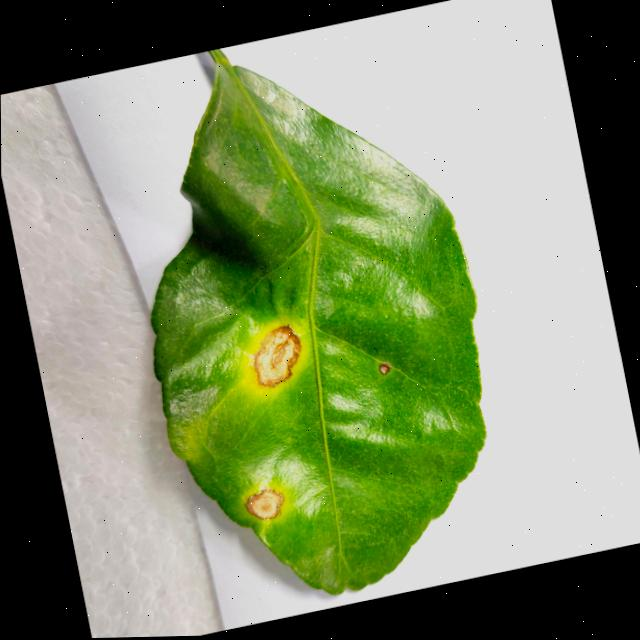antracnose: (153, 48, 485, 593), (254, 325, 301, 386), (247, 488, 283, 518), (378, 361, 392, 374)
